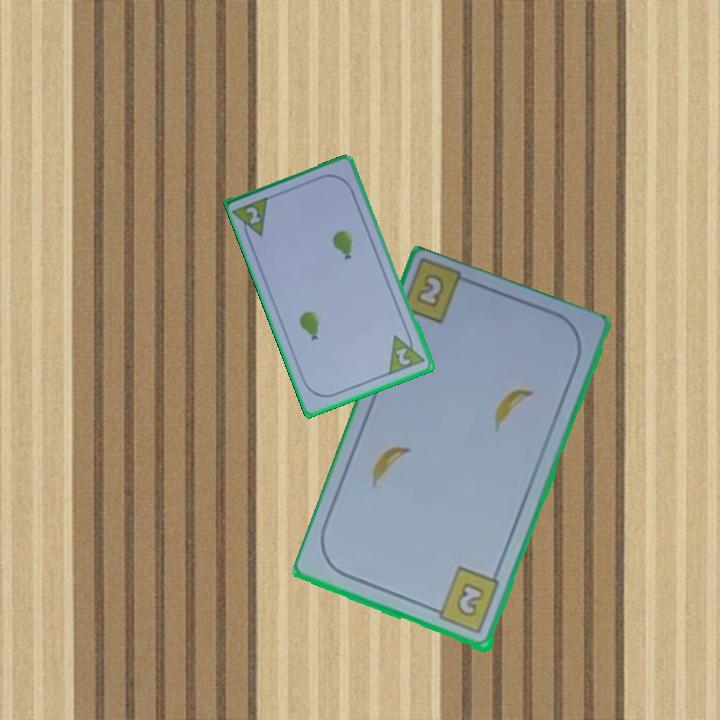2b: (427, 564, 503, 637), (416, 273, 445, 308)
2p: (385, 327, 428, 378), (242, 203, 264, 227)
